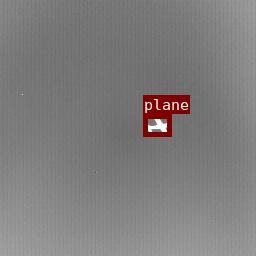plane: (143, 114, 171, 136)
